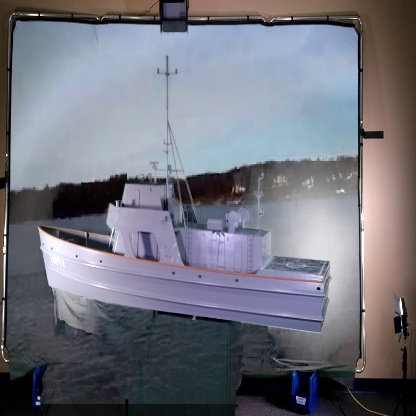YP689: (36, 56, 331, 335)
